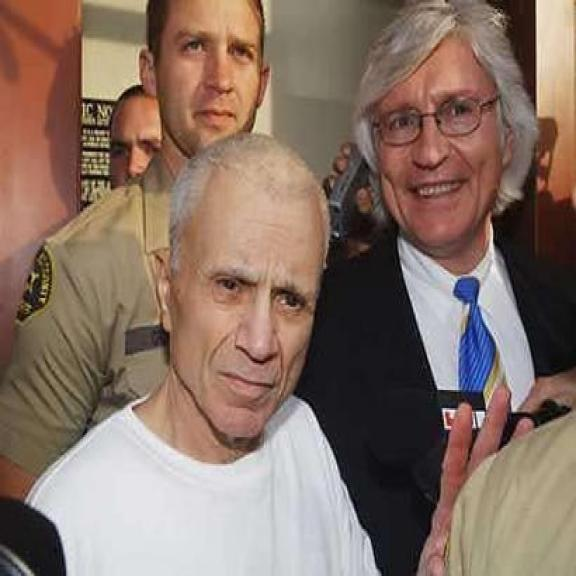face: (150, 180, 326, 456), (356, 41, 518, 258), (140, 0, 274, 154), (101, 94, 170, 197)
